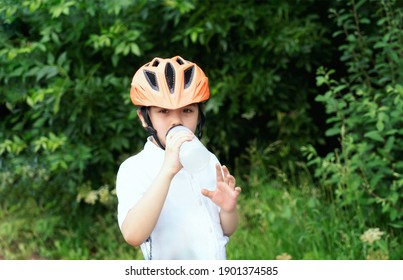helmet: (129, 55, 210, 149)
